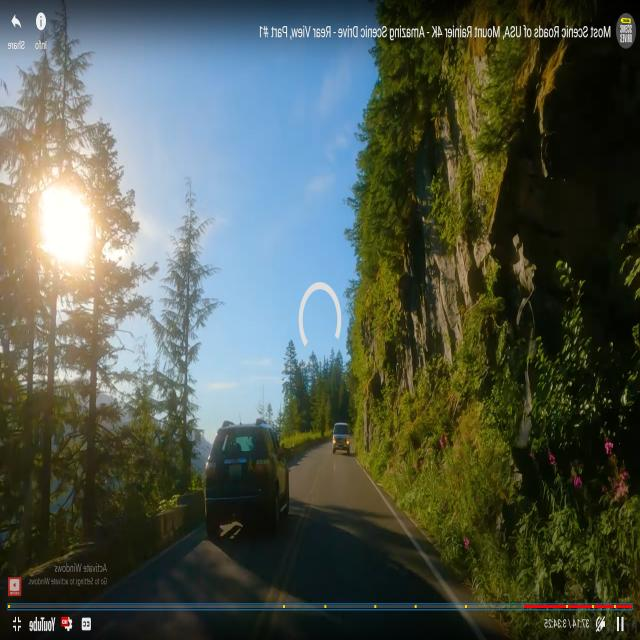sun: (31, 166, 101, 295)
